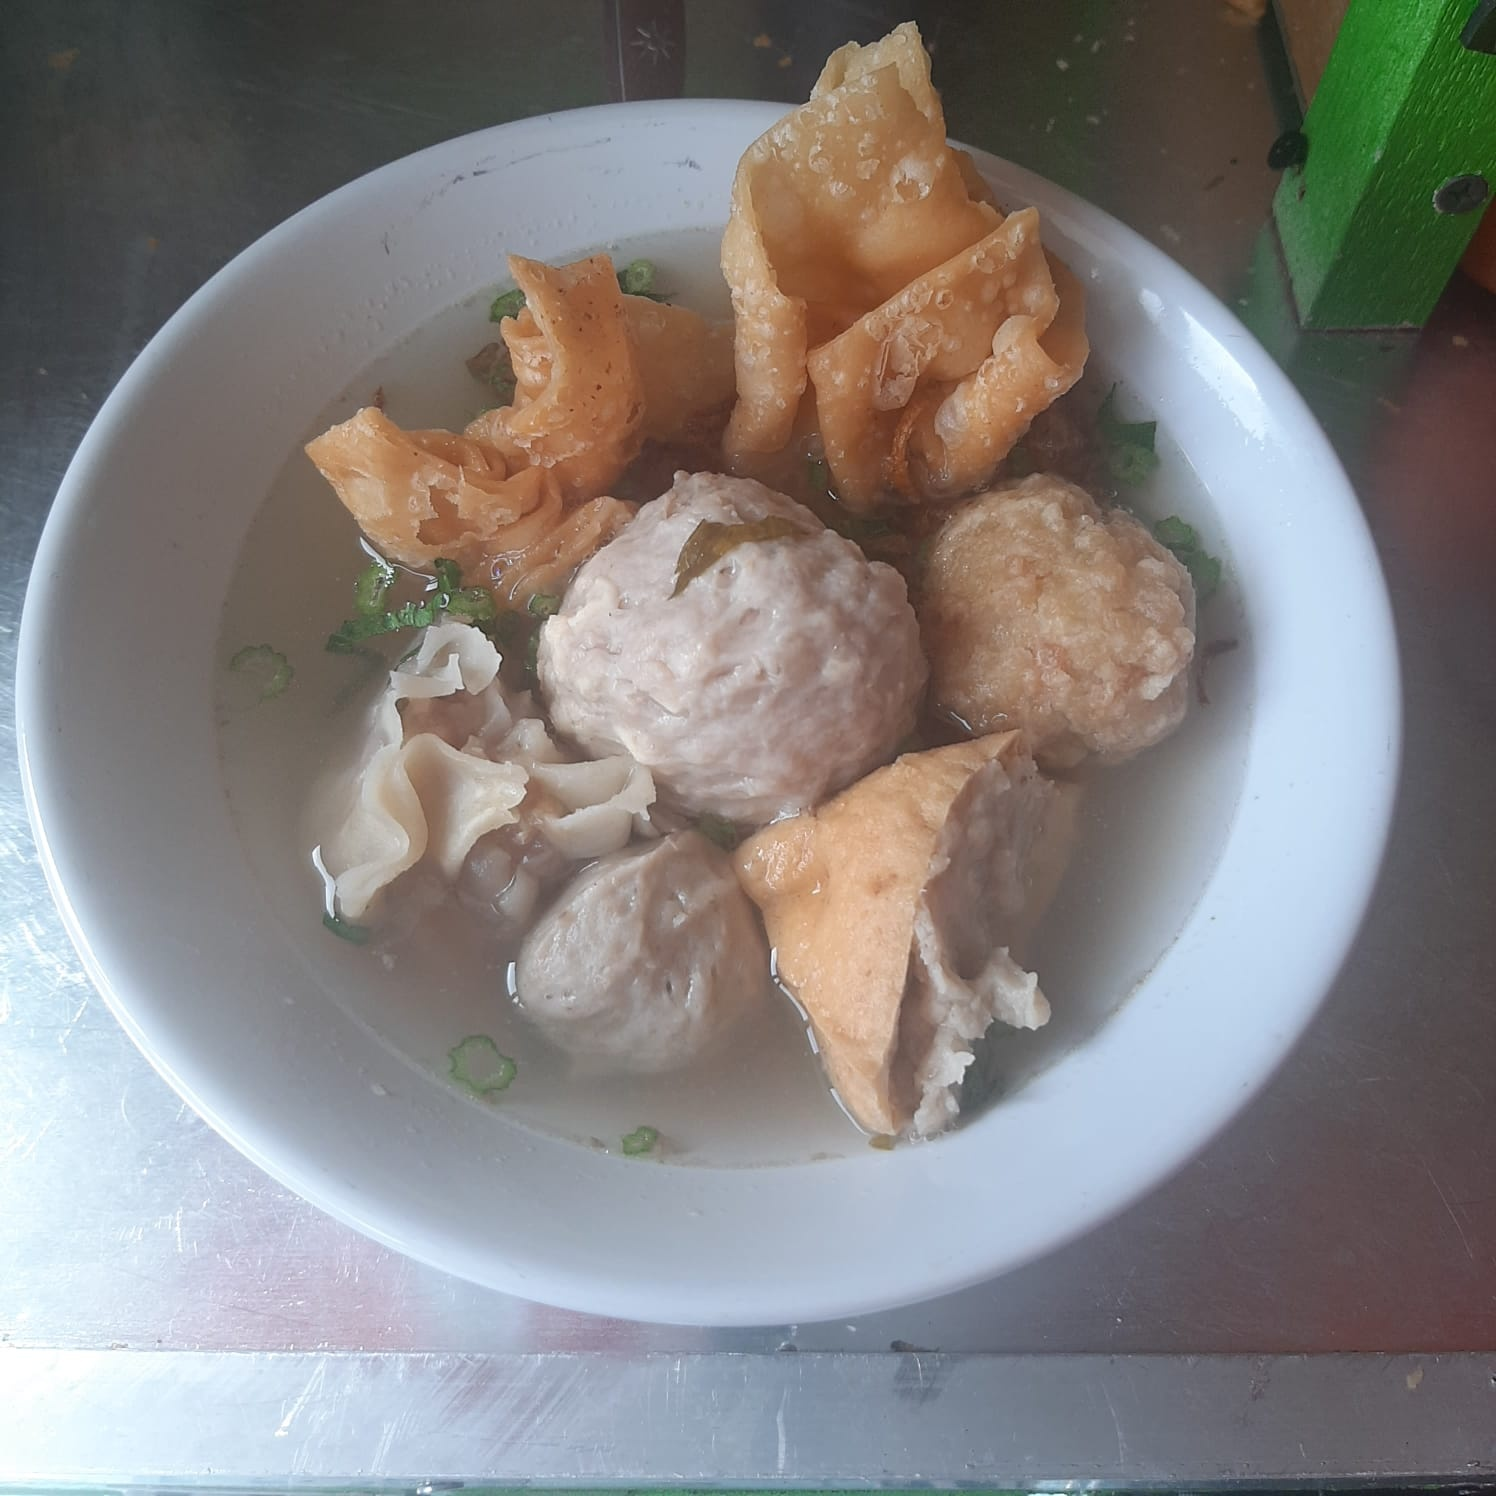bakso_malang: (304, 18, 1197, 1143)
